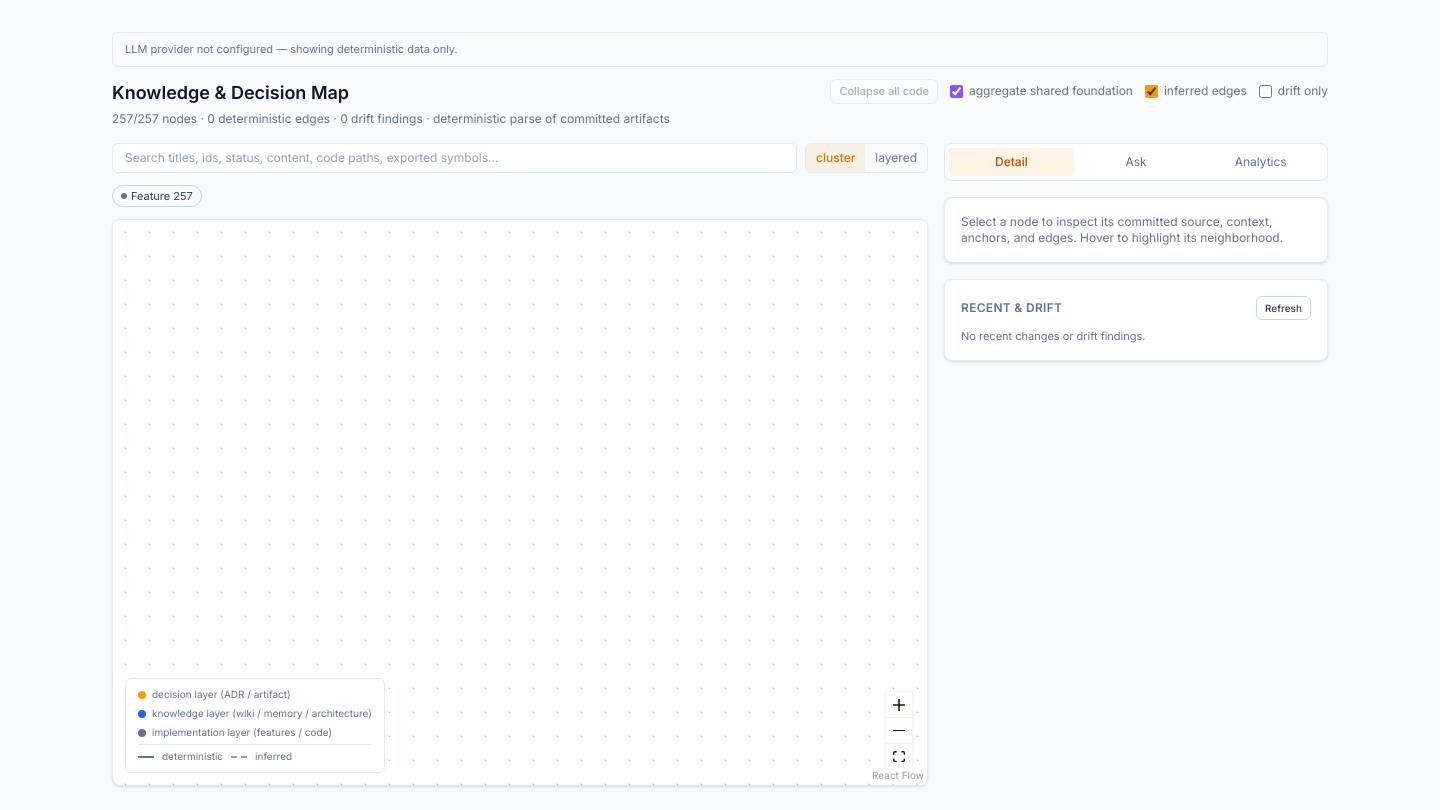
Test case: KnowledgeMapPage Ask context ceiling › warns before submission when an unfocused question would overflow the context
Click the button "Ask": (1136, 162) [1074,148,1198,176]
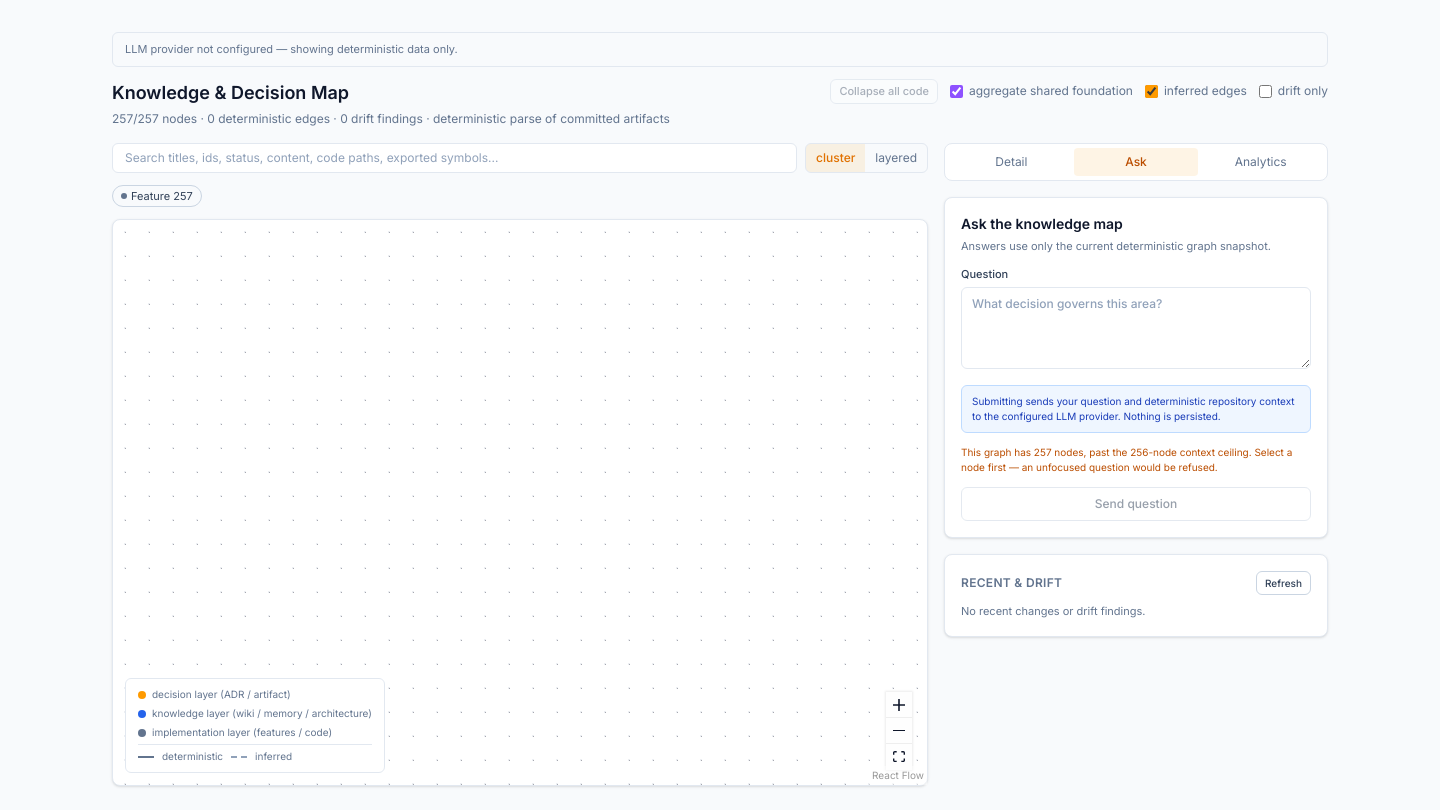
Now the text "past the 256-node context ceiling" is shown, box [961,446,1292,473]
